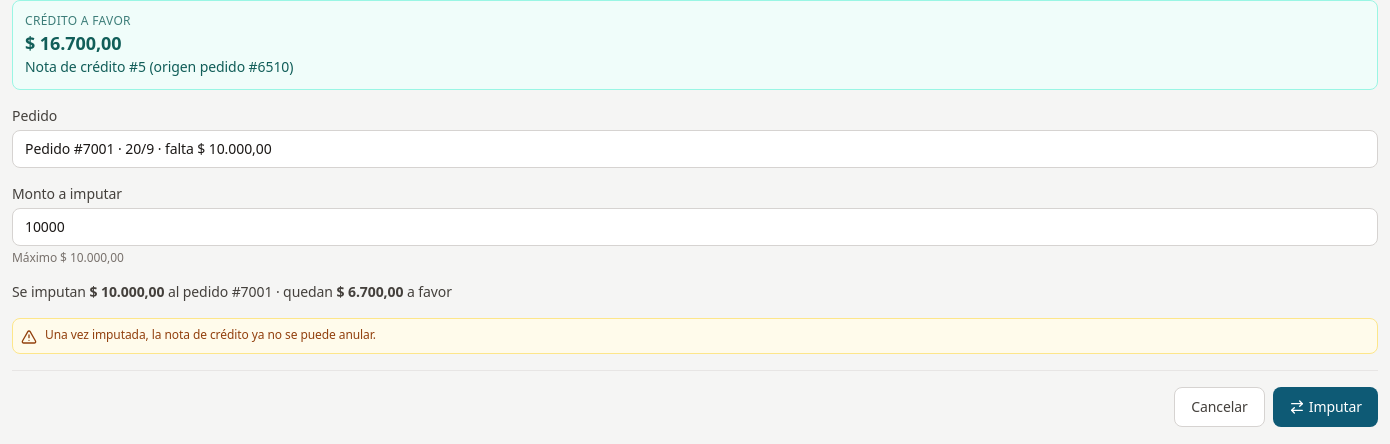
Test: ModalImputarCredito › un monto mayor a lo que falta no se puede imputar
Replace the text in the field labelled "Monto a imputar" with "12000" at x=695, y=227, box left=12, top=208, right=1378, bottom=246
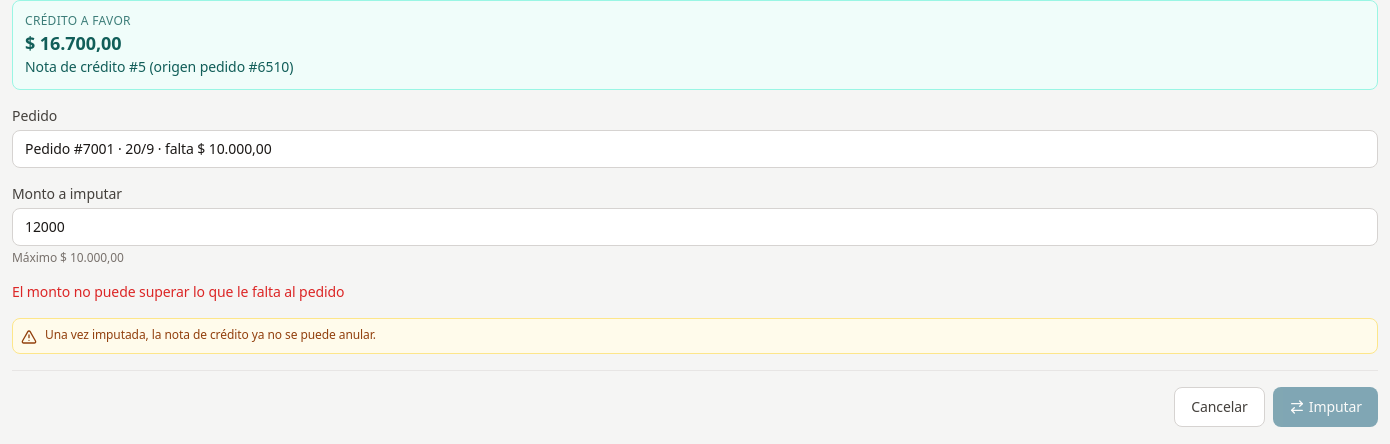
Check: the message shows "no puede superar lo que le falta al pedido", box left=12, top=282, right=344, bottom=301
Check: the button "Imputar" is disabled, box left=1273, top=387, right=1378, bottom=427
